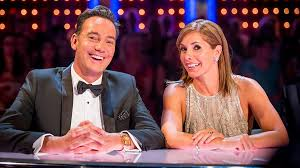Bad: (1, 5, 289, 168)
